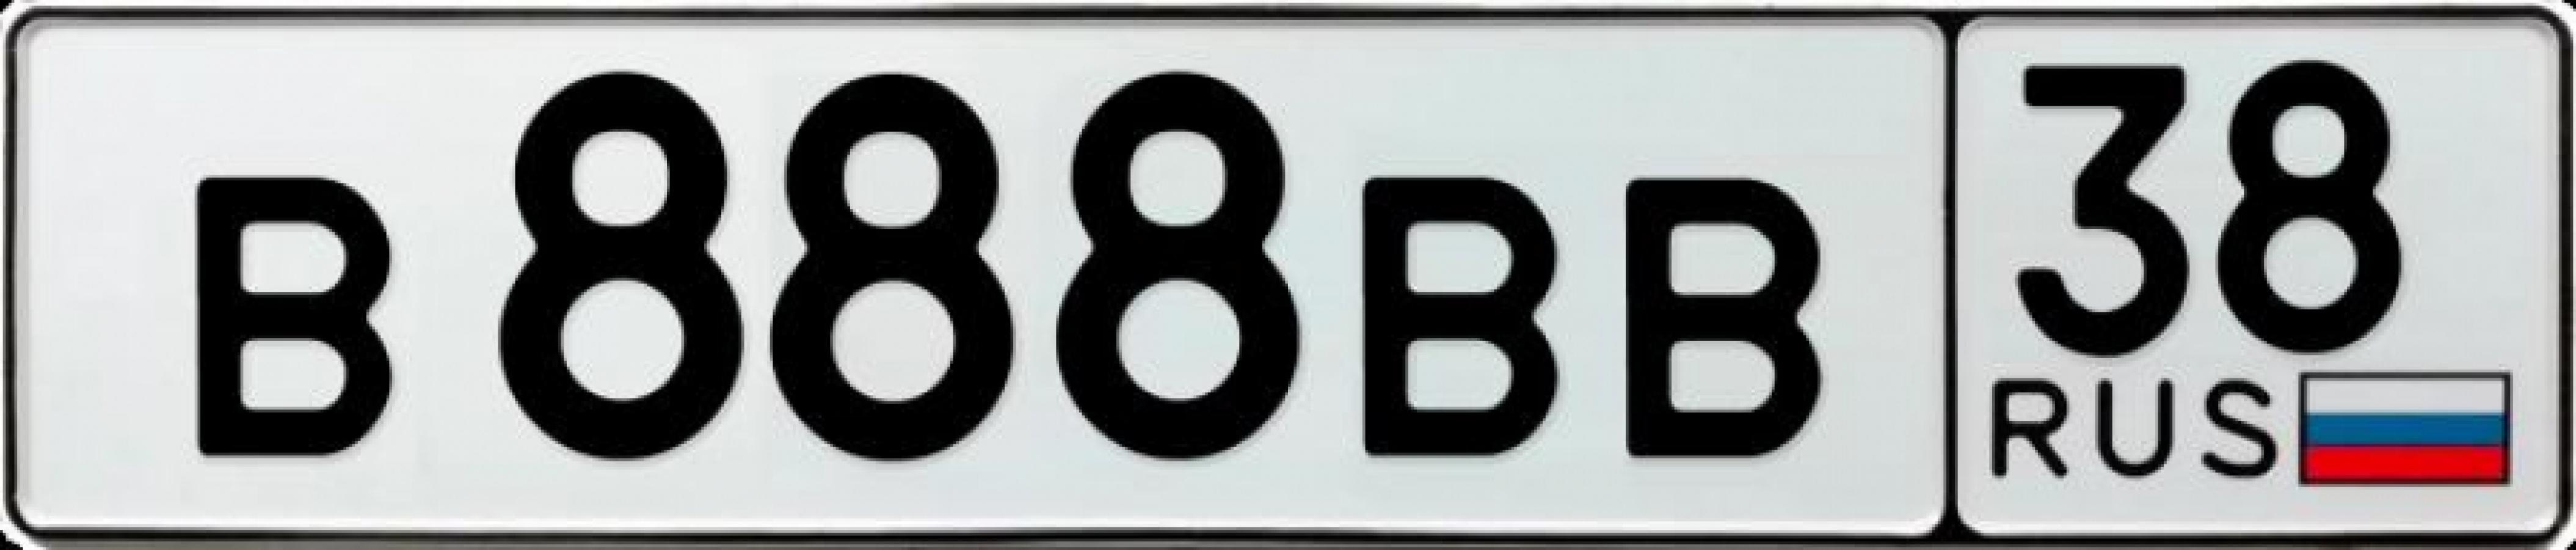number_plate: (24, 24, 2555, 526)
